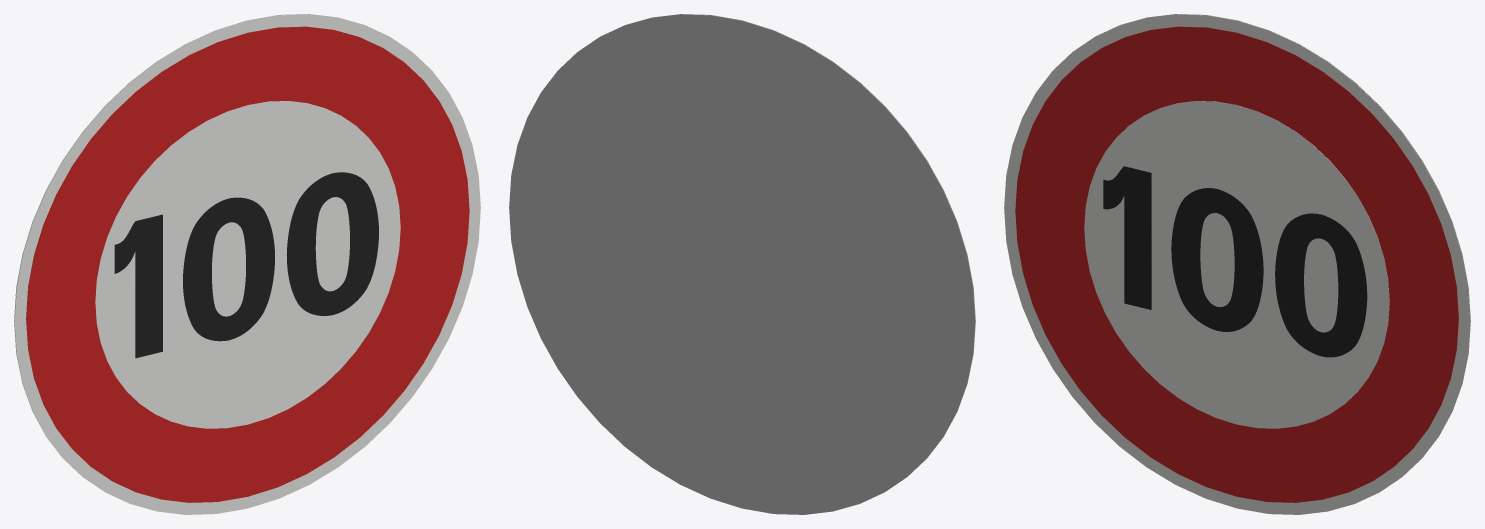
3 renders of one model, left to right at view 1: azimuth 30°, elevation 25°; view 2: azimuth 150°, elevation 25°; view 3: azimuth 330°, elevation 25°, orthographic.
Visible parts, largest first — view 1: B14-100_p01, B14-100_p02, B14-100_p00, B14-100_p04, B14-100_p05, B14-100_p03, B14-100_dos; view 2: B14-100_dos, B14-100_p00; view 3: B14-100_p01, B14-100_p02, B14-100_p00, B14-100_p04, B14-100_p05, B14-100_p03, B14-100_dos.
Boxes of the visible parts, x1,y1,x2,y2 form: B14-100_p01: [26, 26, 469, 502]; B14-100_p02: [95, 101, 400, 428]; B14-100_p00: [14, 14, 480, 514]; B14-100_p04: [183, 197, 274, 341]; B14-100_p05: [286, 172, 378, 315]; B14-100_p03: [114, 214, 162, 358]; B14-100_dos: [14, 14, 385, 473]; B14-100_dos: [509, 14, 975, 514]; B14-100_p00: [604, 14, 975, 473]; B14-100_p01: [1015, 26, 1458, 502]; B14-100_p02: [1084, 101, 1389, 428]; B14-100_p00: [1004, 14, 1470, 514]; B14-100_p04: [1171, 188, 1263, 331]; B14-100_p05: [1275, 213, 1367, 357]; B14-100_p03: [1103, 166, 1151, 309]; B14-100_dos: [1099, 14, 1470, 473].
Size of the model in its own units: 0.85 by 0.8498 by 0.0039.
